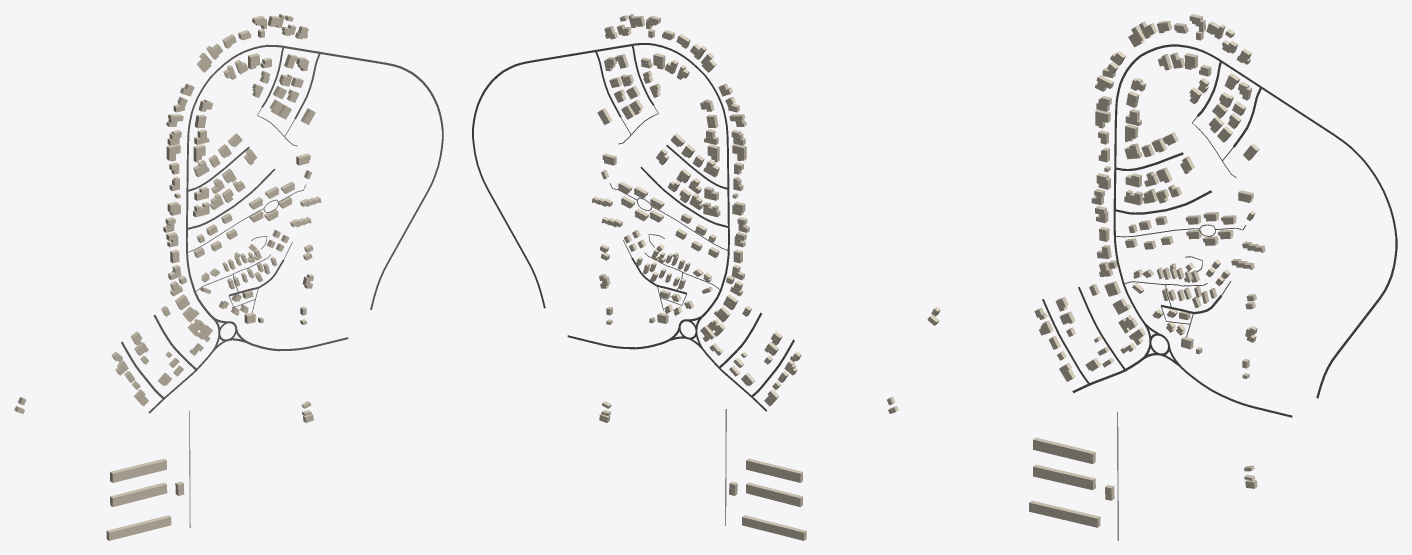
The model's file is historic-palestine-05_16_3468_3105.glb.
3 views of the same model, side by side, from view 1: azimuth 30°, elevation 25°; view 2: azimuth 150°, elevation 25°; view 3: azimuth 330°, elevation 25° (orthographic). The views are drawn at different scales.
Parts seen in each view (by area): view 1: Road .013, Building_.003, Building_, Building_.001; view 2: Road .013, Building_.003, Building_, Building_.001; view 3: Road .013, Building_.003, Building_, Building_.001.
Boxes of the visible parts, box(x1,y1,x2,y2) form: Road .013: box(186, 44, 443, 319); Building_.003: box(106, 515, 171, 540); Building_: box(110, 458, 166, 482); Building_.001: box(110, 482, 167, 506); Road .013: box(472, 43, 729, 317); Building_.003: box(742, 515, 806, 540); Building_: box(746, 458, 802, 482); Building_.001: box(746, 482, 802, 506); Road .013: box(1113, 44, 1397, 398); Building_.003: box(1029, 500, 1100, 527); Building_: box(1033, 437, 1095, 463); Building_.001: box(1033, 464, 1095, 490).
Bounding box in the file's own units: 705 × 776 × 8.7.
